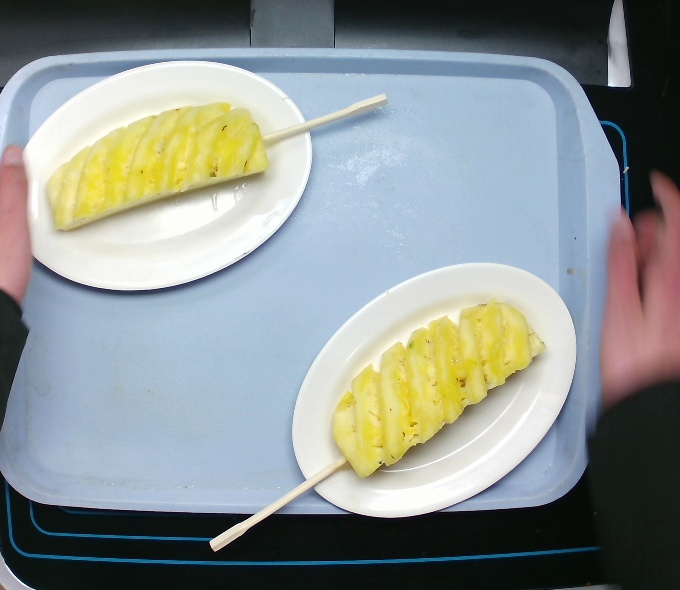wcq-BoLuo: (299, 292, 549, 492), (39, 92, 312, 245)
